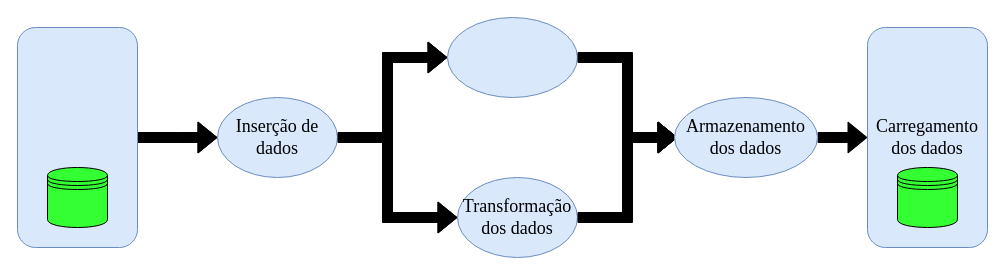
This 1005x275 diagram has some shape labels left out. Here are the shapes that lost their labels. From the top down, the box of each, then its label:
(446, 16, 578, 98): Processamento dos dados
(16, 26, 138, 248): Fontes de dados
